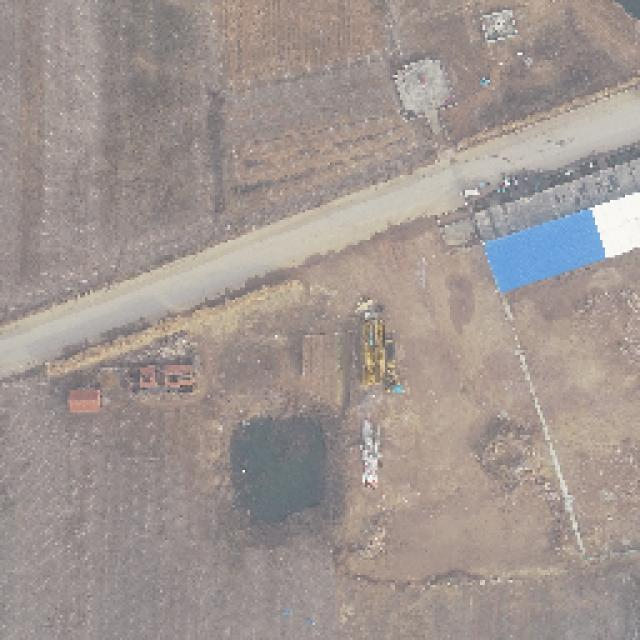Batiment: (486, 211, 604, 292), (591, 192, 640, 257), (100, 368, 194, 392), (69, 389, 100, 412)
